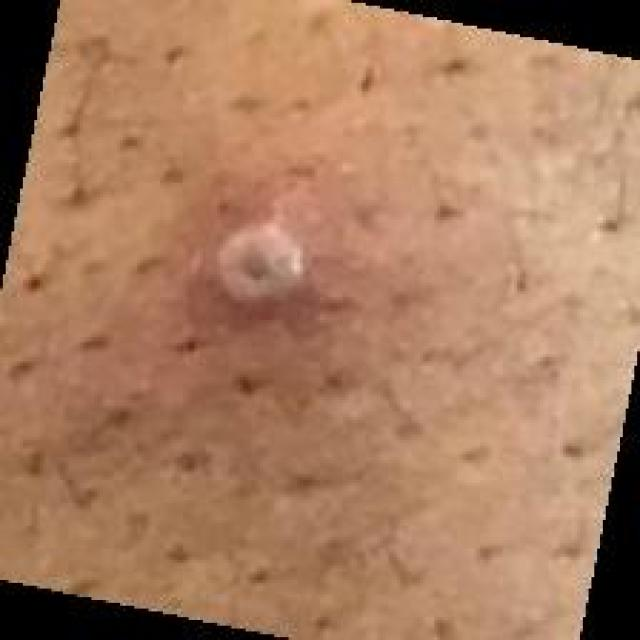monkeypox: (105, 134, 583, 533)
